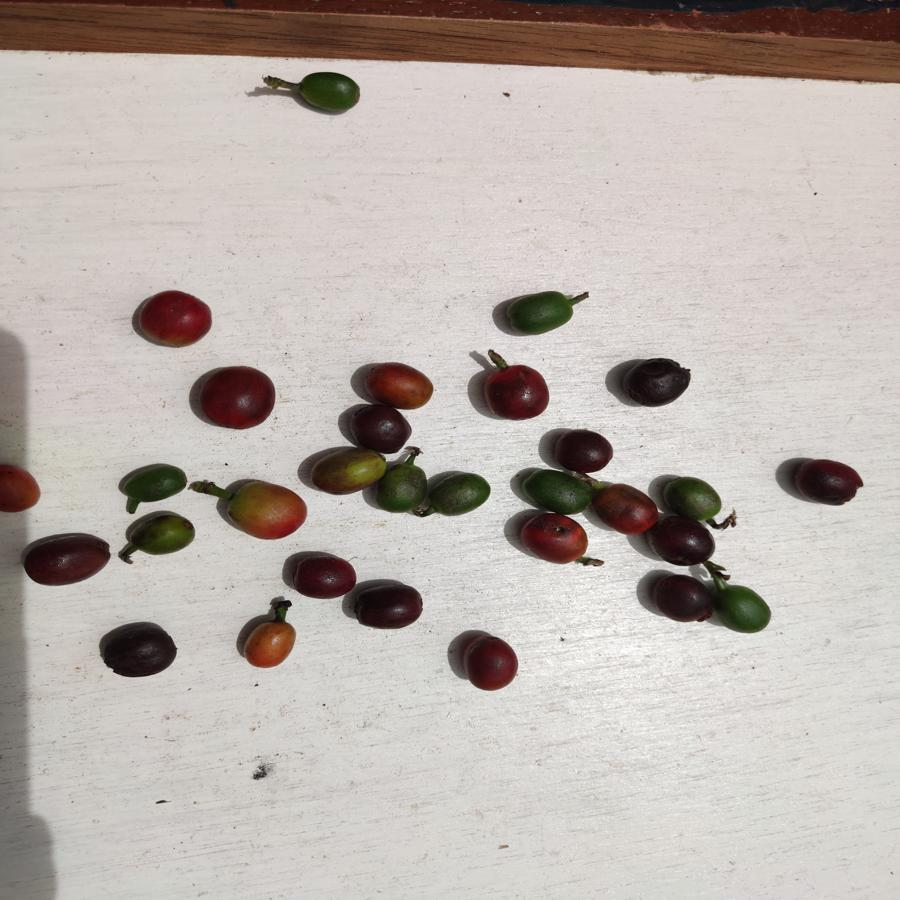Inmaduro: (292, 68, 362, 122), (519, 466, 594, 515), (503, 289, 575, 339), (716, 580, 776, 638), (126, 512, 200, 558), (428, 469, 495, 519), (660, 471, 724, 517), (119, 463, 193, 502), (380, 461, 427, 512)
Maduro: (133, 289, 215, 352), (1, 463, 42, 515)
Pinton: (228, 478, 309, 540), (305, 448, 381, 496), (362, 361, 435, 408), (240, 619, 295, 671)
Sobremaduro: (21, 530, 112, 587), (199, 366, 280, 428), (100, 624, 182, 683), (479, 361, 551, 419), (620, 354, 693, 411), (790, 455, 863, 508), (521, 512, 592, 566), (350, 582, 426, 632), (649, 517, 722, 568), (599, 475, 657, 538), (459, 633, 518, 694), (345, 403, 415, 452), (651, 570, 712, 622), (292, 554, 359, 597), (551, 427, 613, 472)
